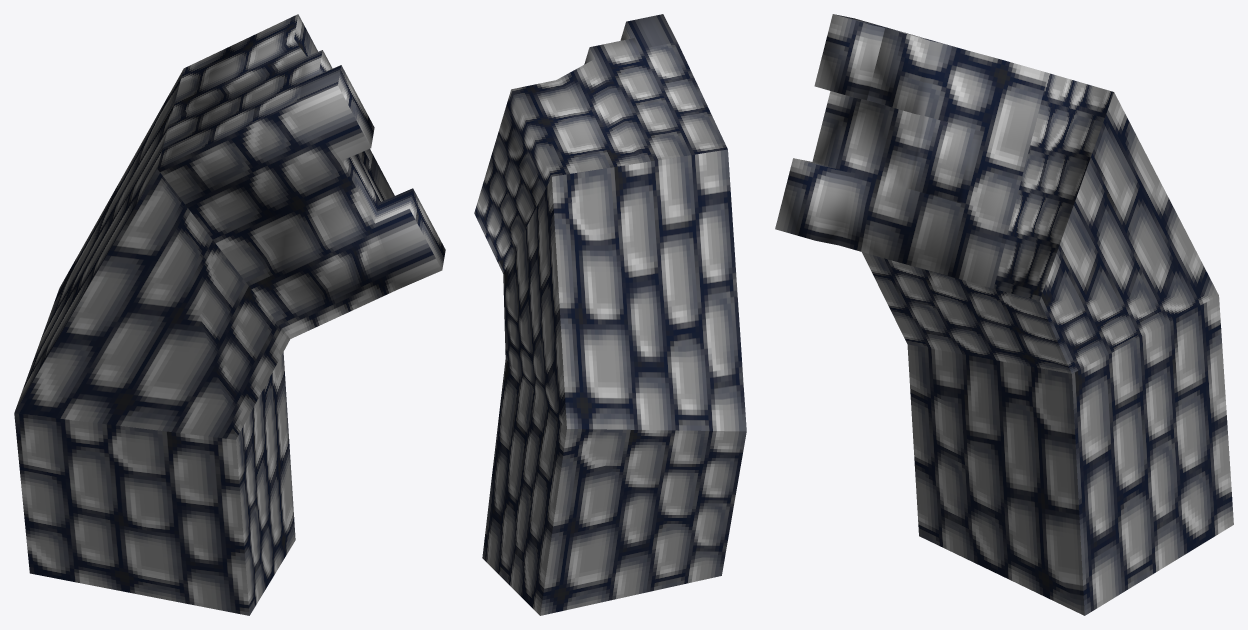
The model's file is Ruine3.glb.
3 renders of one model, left to right at view 1: azimuth 30°, elevation 25°; view 2: azimuth 150°, elevation 25°; view 3: azimuth 270°, elevation 25°, orthographic. The views are drawn at different scales.
Visible parts, largest first — view 1: Cube.002; view 2: Cube.002; view 3: Cube.002.
Boxes of the visible parts, x1,y1,x2,y2 form: Cube.002: (14, 14, 445, 615); Cube.002: (474, 14, 746, 615); Cube.002: (775, 14, 1233, 615).
Bounding box in the file's own units: 3.6 × 5.55 × 4.12.
Materials: 1 (1 with a texture image).
